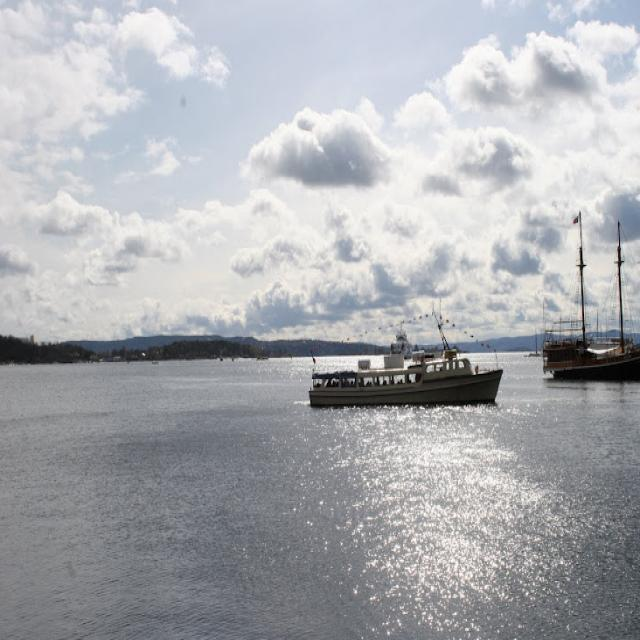fishing boat: (548, 311, 640, 395)
passenger ship: (304, 300, 506, 413)
